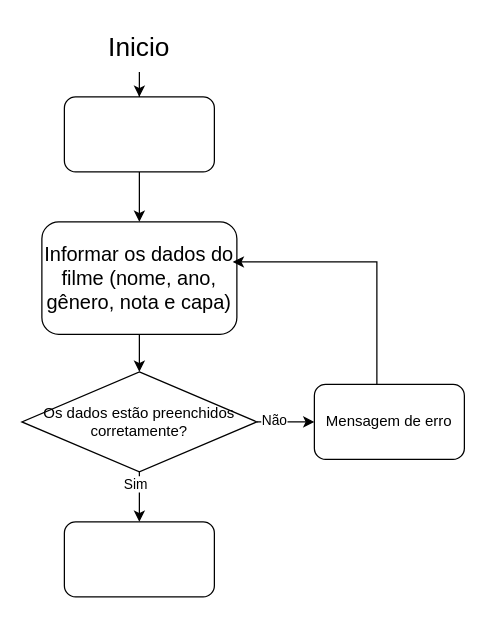
Image size: 486x619. Some labels were removed from this diagram. Each missing label, with the centre of its shape:
"Cadastrar filme" belongs at (x=138, y=134).
"Mensagem de filme cadastrado com sucesso" belongs at (x=138, y=559).
